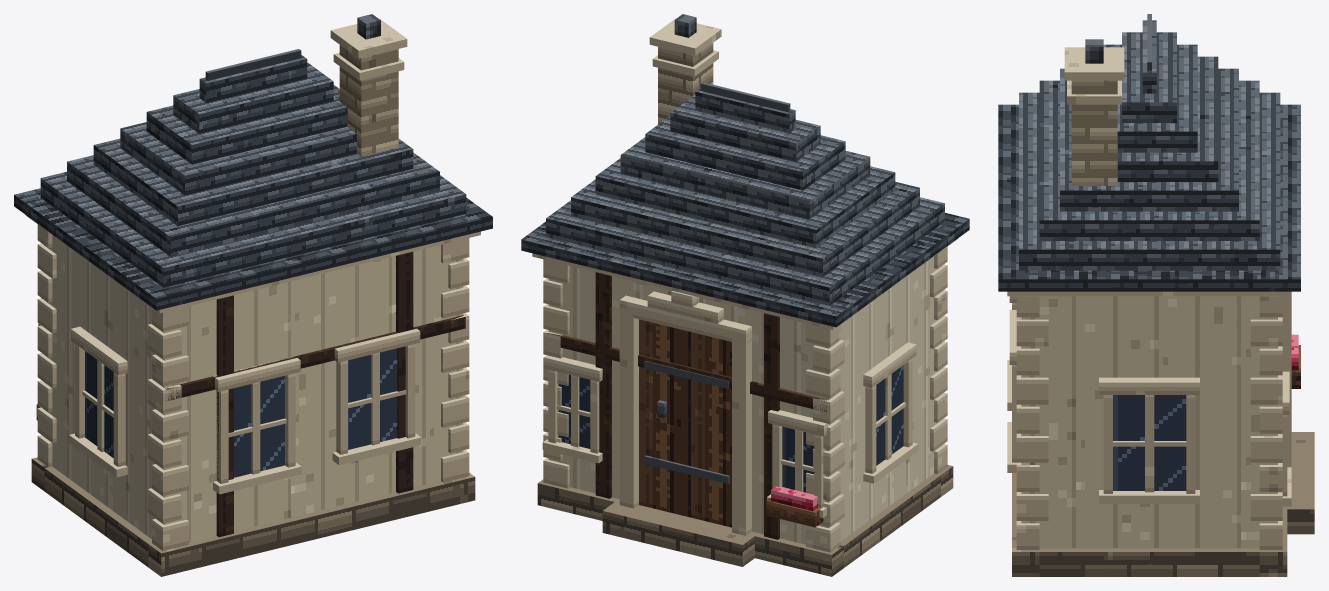
Rendered from cottage.glb.
3 renders of one model, left to right at view 1: azimuth 30°, elevation 25°; view 2: azimuth 150°, elevation 25°; view 3: azimuth 270°, elevation 25°, orthographic. The views are drawn at different scales.
Visible parts, largest first — view 1: wall_1, roof_tier_1, roof_tier_2, roof_tier_3, base_course_2, eave_2, roof_tier_4, roof_tier_5, roof_tier_6, chimney_1, window_glass_3, window_glass_4 (+40 smaller); view 2: wall_1, door_1, roof_tier_1, roof_tier_2, roof_tier_3, roof_tier_4, eave_1, roof_tier_5, step_1, base_course_1, roof_tier_6, door_frame_1 (+43 smaller); view 3: wall_1, roof_tier_1, roof_tier_2, roof_tier_3, base_course_4, window_glass_5, roof_tier_4, eave_1, eave_2, chimney_1, eave_4, roof_tier_5 (+37 smaller).
Part boxes in pixels (box(x1,y1,x2,y2)): wall_1: box(44, 235, 463, 542); roof_tier_1: box(40, 171, 466, 287); roof_tier_2: box(67, 152, 439, 256); roof_tier_3: box(93, 138, 413, 225); base_course_2: box(148, 473, 475, 576); eave_2: box(131, 198, 492, 310); roof_tier_4: box(120, 122, 356, 195); roof_tier_5: box(146, 85, 347, 164); roof_tier_6: box(173, 62, 333, 133); chimney_1: box(339, 45, 398, 156); window_glass_3: box(234, 376, 284, 477); window_glass_4: box(348, 348, 397, 449); wall_1: box(548, 257, 941, 544); door_1: box(639, 319, 731, 527); roof_tier_1: box(546, 197, 944, 305); roof_tier_2: box(571, 179, 919, 276); roof_tier_3: box(595, 158, 895, 248); roof_tier_4: box(620, 137, 870, 219); eave_1: box(521, 222, 859, 327); roof_tier_5: box(645, 116, 845, 190); step_1: box(602, 502, 754, 566); base_course_1: box(537, 479, 843, 576); roof_tier_6: box(670, 95, 820, 161); door_frame_1: box(732, 325, 751, 535); wall_1: box(1021, 296, 1277, 548); roof_tier_1: box(1019, 92, 1280, 270); roof_tier_2: box(1039, 80, 1259, 240); roof_tier_3: box(1060, 68, 1238, 211); base_course_4: box(1039, 548, 1259, 576); window_glass_5: box(1113, 395, 1186, 490); roof_tier_4: box(1117, 56, 1218, 181); eave_1: box(1248, 104, 1300, 291); eave_2: box(998, 104, 1050, 291); chimney_1: box(1071, 80, 1117, 185); eave_4: box(1051, 270, 1248, 291); roof_tier_5: box(1103, 44, 1197, 152).
Size of the model in its own units: 2.81 by 3.75 by 2.16.
1 material, 1 textured.
